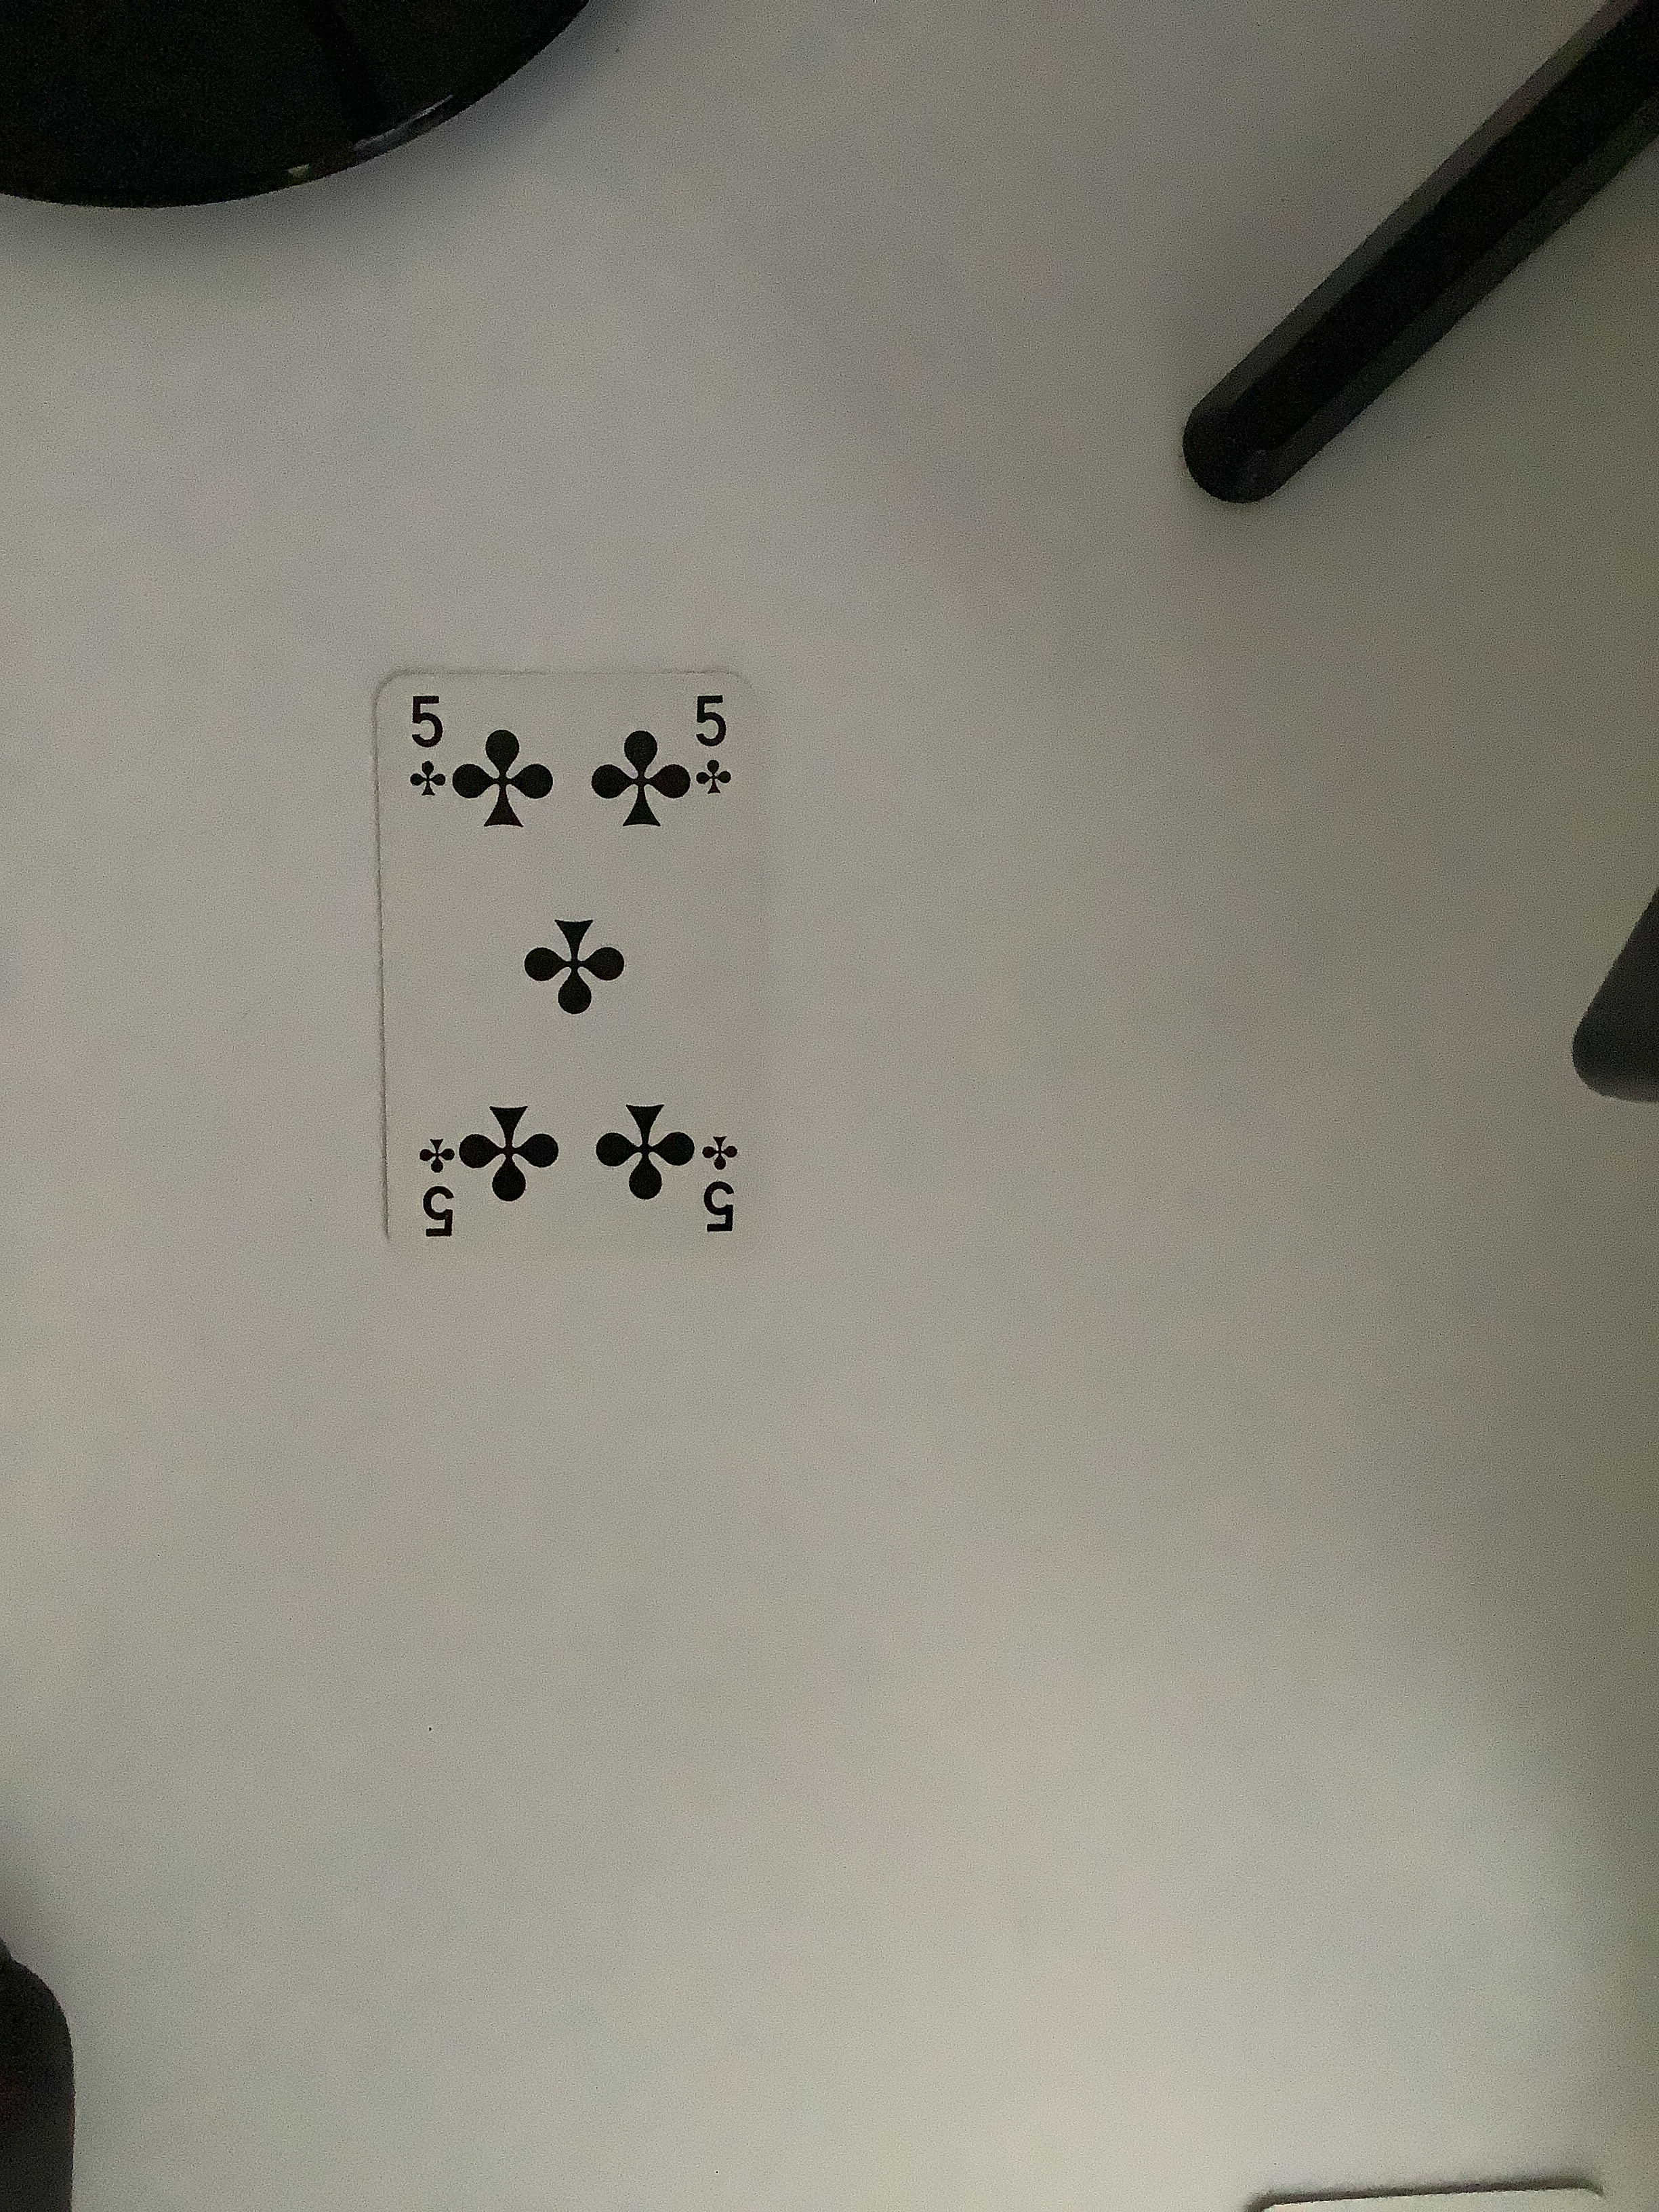♣ 5: (350, 641, 805, 1296)
